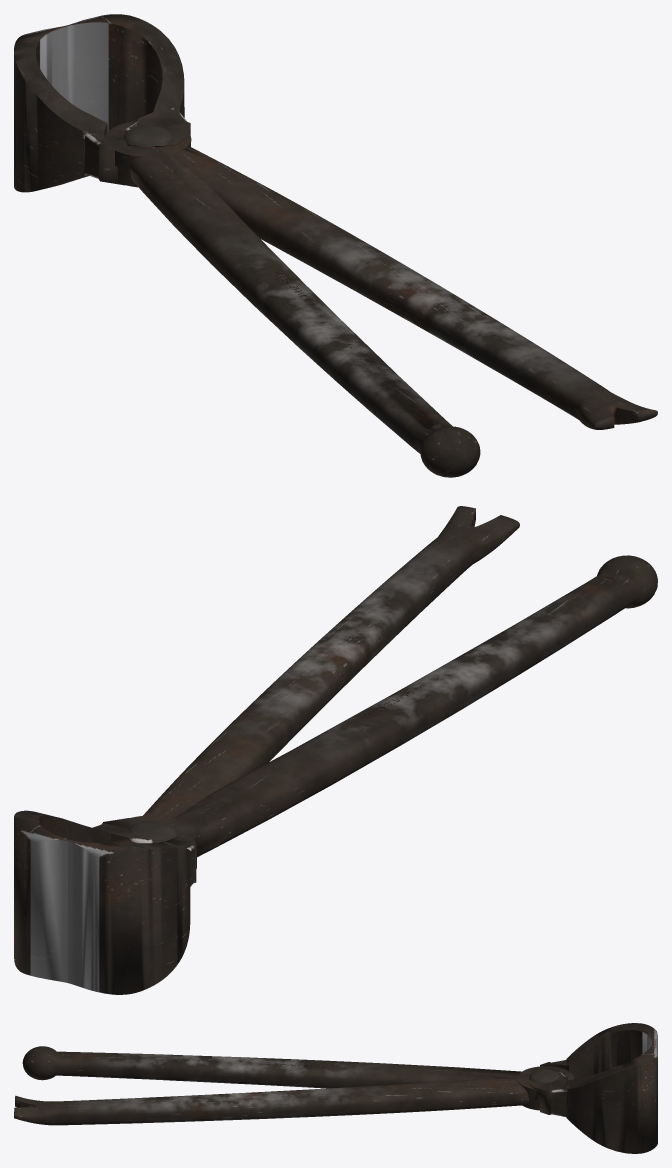
Rendered from kerpeten.glb.
3 renders of one model, top to bottom at view 1: azimuth 30°, elevation 25°; view 2: azimuth 150°, elevation 25°; view 3: azimuth 270°, elevation 25°, orthographic. The views are drawn at different scales.
Parts seen in each view (by area): view 1: kerpeten_A, kerpeten_B, kerpeten_percin; view 2: kerpeten_B, kerpeten_A, kerpeten_percin; view 3: kerpeten_A, kerpeten_B, kerpeten_percin.
Part boxes in pixels (left/top/right/bottom): kerpeten_A: left=66, top=14, right=480, bottom=477; kerpeten_B: left=14, top=25, right=657, bottom=429; kerpeten_percin: left=124, top=125, right=171, bottom=146; kerpeten_B: left=68, top=506, right=519, bottom=994; kerpeten_A: left=14, top=555, right=657, bottom=982; kerpeten_percin: left=129, top=820, right=178, bottom=843; kerpeten_A: left=22, top=1043, right=657, bottom=1153; kerpeten_B: left=14, top=1023, right=657, bottom=1125; kerpeten_percin: left=529, top=1069, right=559, bottom=1083.
Size of the model in its own units: 0.0603 by 0.0377 by 0.2401.
3 materials, 3 textured.
